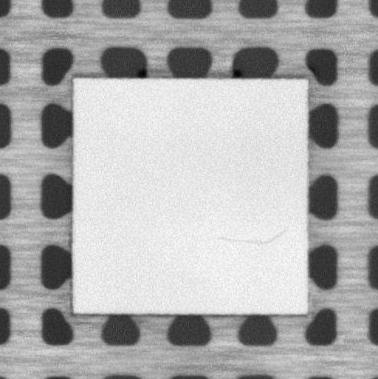DIE_CRACK: (217, 227, 287, 246)
